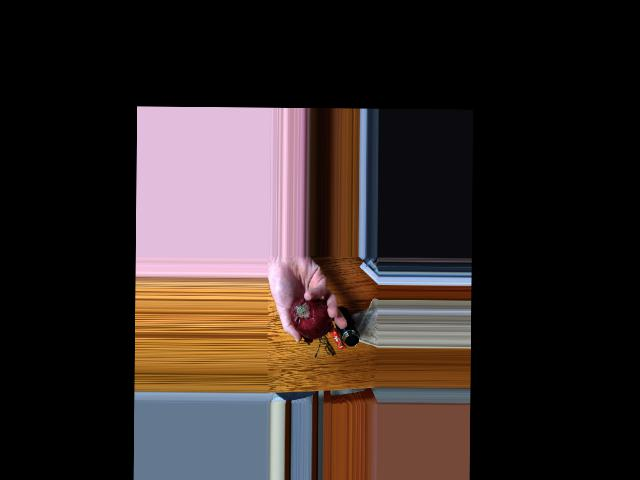onion: (291, 302, 330, 338)
